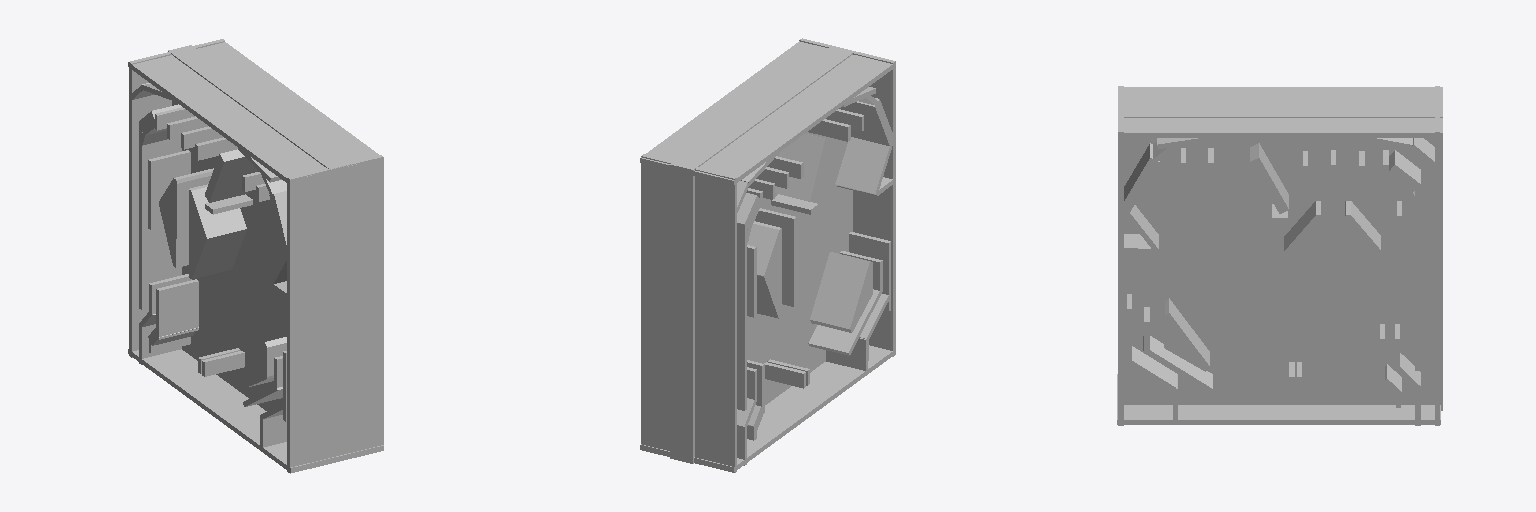
Rendered from macadam.obj.
3 views of the same model, side by side, from view 1: azimuth 30°, elevation 25°; view 2: azimuth 150°, elevation 25°; view 3: azimuth 270°, elevation 25° (orthographic).
Parts seen in each view (by area): view 1: Cube.002, Cube, Cube.001, Cube.003, Cube.016_Cube.019, Cube.004, Cube.005, Cube.011_Cube.014, Cube.013_Cube.023, Cube.006, Cube.010_Cube.021, Cube.012triangle_Cube.012 (+6 smaller); view 2: Cube.004, Cube, Cube.001, Cube.003, Cube.002, Cube.012triangle_Cube.012, Cube.011_Cube.014, Cube.016_Cube.019, Cube.035_Cube.044, Cube.010_Cube.021, Cube.005, Cube.014_Cube.024 (+8 smaller); view 3: Cube, Cube.001, Cube.003, Cube.016_Cube.019, Cube.011_Cube.014, Cube.002, Cube.012triangle_Cube.012, Cube.004, Cube.010_Cube.021, Cube.014_Cube.024, Cube.005, Cube.034_Cube.043 (+3 smaller).
Part boxes in pixels (x1,y1,x2,y2): Cube.002: (287, 155, 383, 473); Cube: (168, 45, 352, 410); Cube.001: (128, 42, 383, 185); Cube.003: (128, 349, 383, 472); Cube.016_Cube.019: (189, 184, 246, 278); Cube.004: (129, 39, 224, 357); Cube.005: (139, 122, 181, 309); Cube.011_Cube.014: (159, 168, 213, 267); Cube.013_Cube.023: (156, 279, 198, 339); Cube.006: (148, 150, 190, 229); Cube.010_Cube.021: (205, 149, 257, 202); Cube.012triangle_Cube.012: (244, 337, 286, 387); Cube.004: (641, 154, 736, 472); Cube: (670, 46, 854, 463); Cube.001: (640, 41, 893, 185); Cube.003: (640, 345, 892, 471); Cube.002: (799, 38, 895, 356); Cube.012triangle_Cube.012: (810, 252, 872, 332); Cube.011_Cube.014: (747, 221, 781, 318); Cube.016_Cube.019: (755, 208, 812, 306); Cube.035_Cube.044: (835, 137, 892, 194); Cube.010_Cube.021: (775, 134, 829, 202); Cube.005: (737, 223, 746, 410); Cube.014_Cube.024: (808, 288, 882, 355); Cube: (1119, 105, 1442, 410); Cube.001: (1118, 87, 1442, 137); Cube.003: (1117, 374, 1440, 424); Cube.016_Cube.019: (1284, 201, 1320, 303); Cube.011_Cube.014: (1345, 201, 1380, 303); Cube.002: (1118, 86, 1123, 425); Cube.012triangle_Cube.012: (1164, 298, 1209, 371); Cube.004: (1435, 86, 1439, 425); Cube.010_Cube.021: (1250, 143, 1288, 213); Cube.014_Cube.024: (1143, 336, 1212, 392); Cube.005: (1415, 185, 1420, 370); Cube.034_Cube.043: (1120, 143, 1159, 213).
Bounding box in the file's own units: 2 × 6.01 × 6.03.